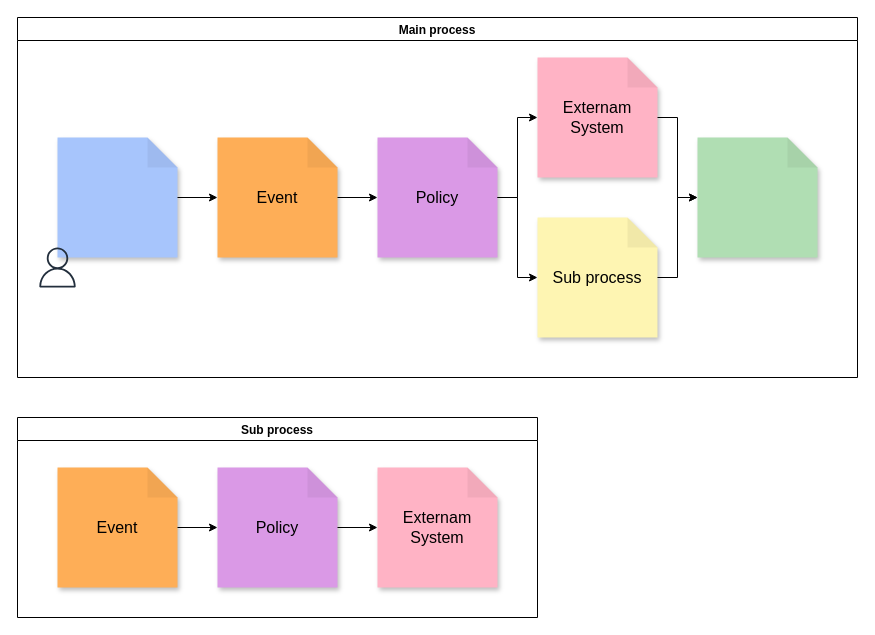
Some shapes in this 875 by 635 pixel diagram are drawn without their labels. Here are the shapes that lost their labels. From the top down, the centre of each, then its label:
At [118,198]: "Command".
At [758,198]: "Read/View Model".
